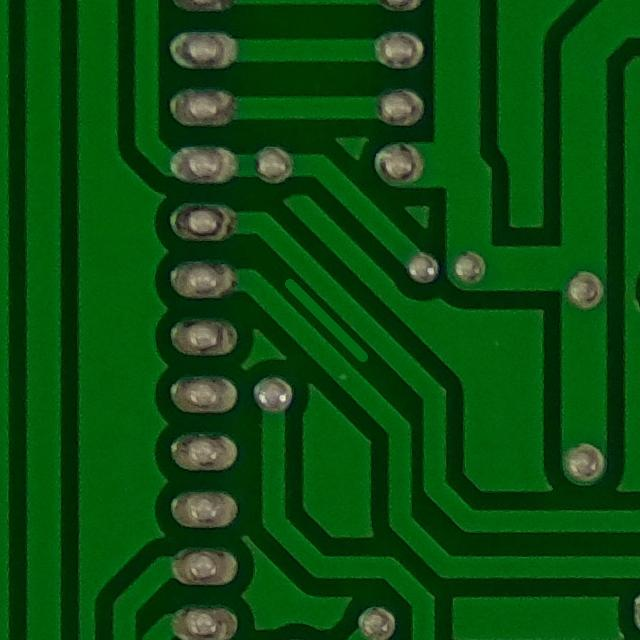spurious_copper: (268, 268, 373, 373)
